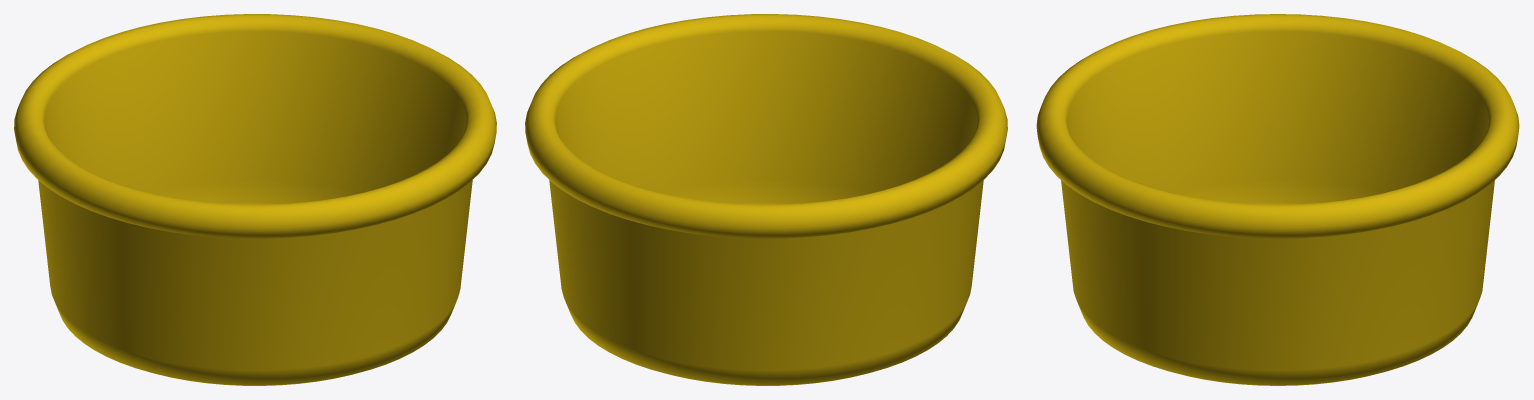
The model's file is candidate.glb.
The picture shows the model from 3 angles, left to right: view 1: azimuth 30°, elevation 25°; view 2: azimuth 150°, elevation 25°; view 3: azimuth 270°, elevation 25°; orthographic projection.
Visible parts, largest first — view 1: wash_basin; view 2: wash_basin; view 3: wash_basin.
Part boxes in pixels (x1=…): wash_basin: x1=14, y1=14, x2=496, y2=385; wash_basin: x1=525, y1=14, x2=1007, y2=385; wash_basin: x1=1036, y1=14, x2=1519, y2=385.
Bounding box in the file's own units: 0.2 × 0.0905 × 0.2.
